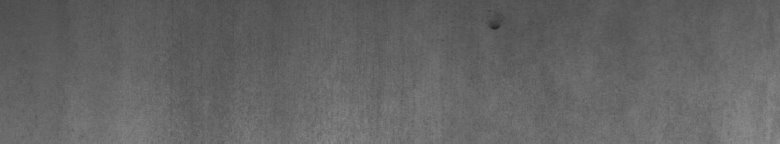fi: (484, 20, 503, 36)
